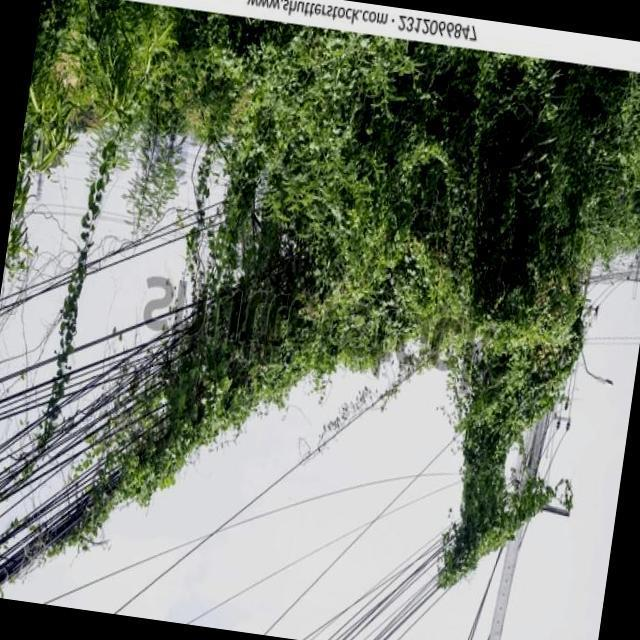critical vegetation: (23, 169, 640, 640)
